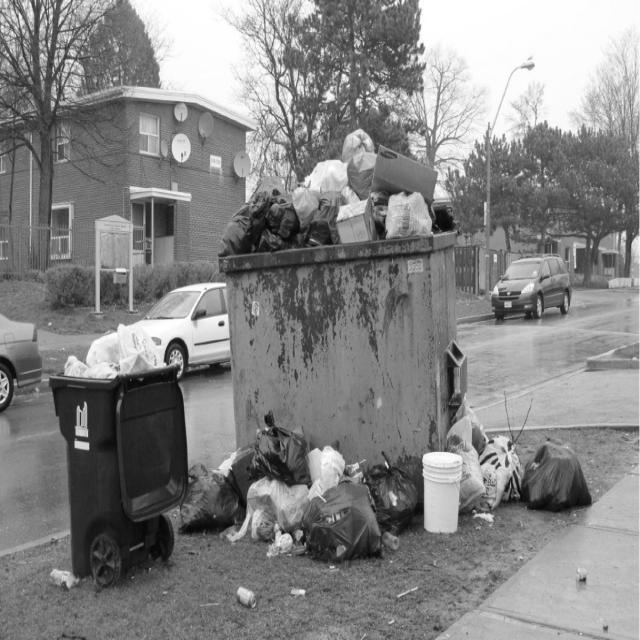Trashcan: (199, 112, 542, 556), (44, 321, 220, 584)
